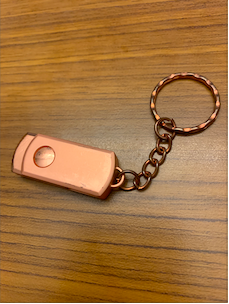object_name: (15, 70, 220, 198)
